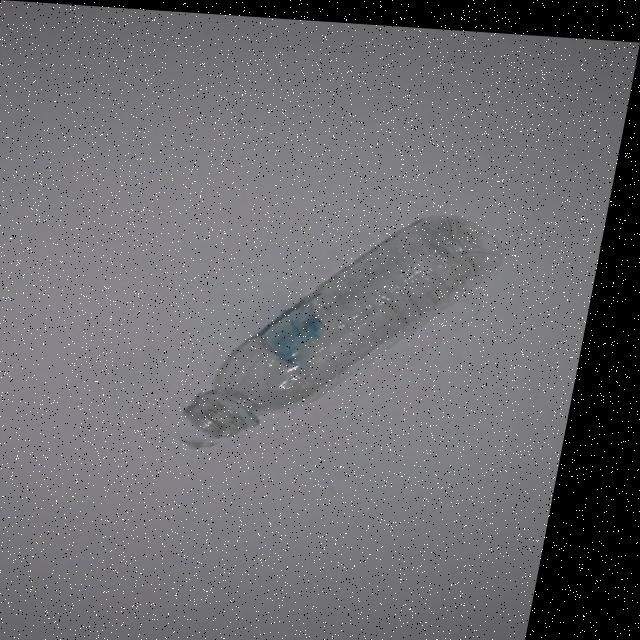litter: (129, 184, 562, 467)
